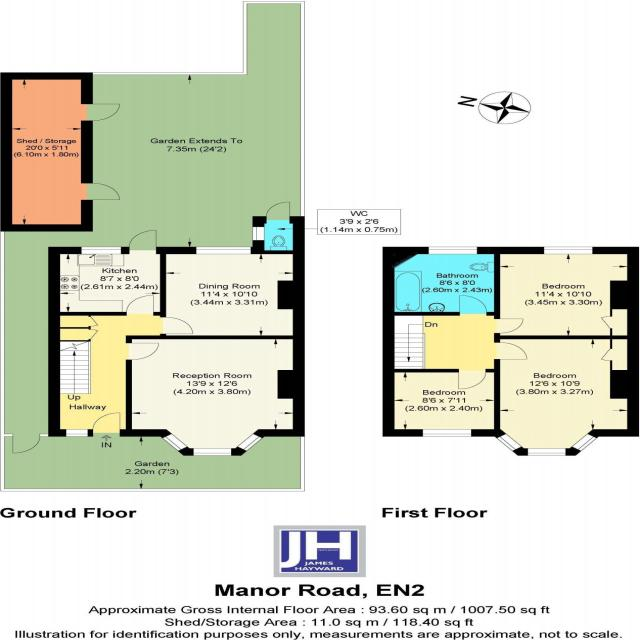DOOR: (127, 229, 158, 254), (92, 412, 121, 436), (125, 342, 160, 361), (458, 295, 489, 316), (494, 341, 528, 360), (124, 294, 154, 315), (160, 316, 195, 334), (457, 369, 487, 390), (494, 318, 525, 334)
ROOM: (125, 335, 305, 456), (493, 336, 640, 456), (159, 245, 306, 339), (494, 247, 639, 340), (48, 230, 166, 316), (382, 369, 501, 437)
WINDOW: (570, 432, 598, 453), (236, 433, 264, 453), (160, 433, 189, 451), (496, 433, 523, 451), (426, 246, 479, 255), (542, 246, 594, 255), (194, 246, 252, 254), (421, 429, 472, 437), (189, 447, 233, 456), (81, 246, 123, 255), (524, 448, 567, 456), (251, 225, 265, 241), (64, 429, 89, 437)
